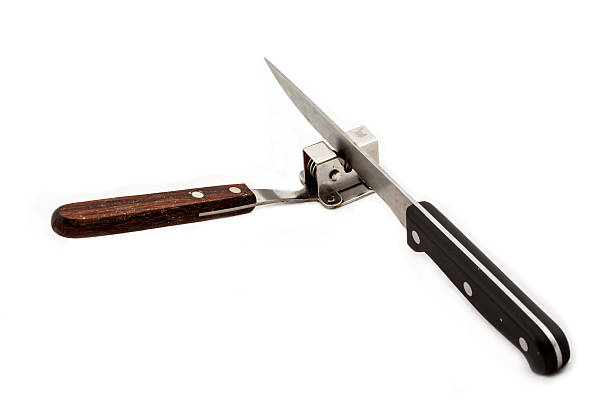knife: (260, 53, 573, 378)
